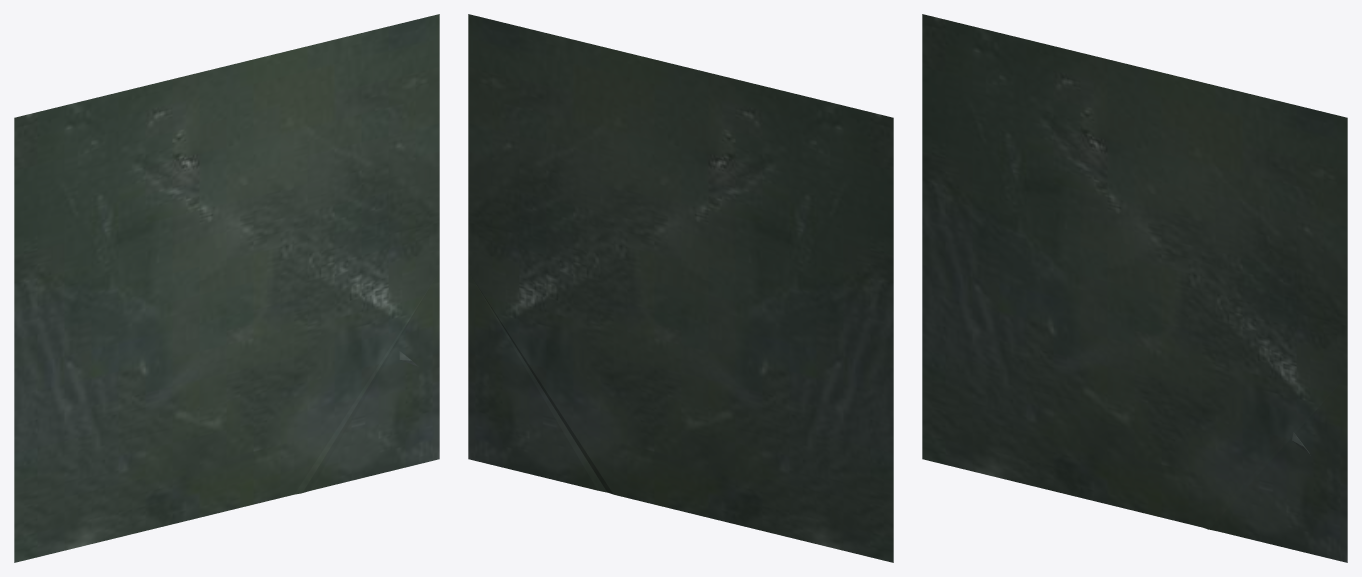
The model's file is Tile_+037_+018_L17_0003.glb.
3 renders of one model, left to right at view 1: azimuth 30°, elevation 25°; view 2: azimuth 150°, elevation 25°; view 3: azimuth 330°, elevation 25°, orthographic.
Bounding box in the file's own units: 126 × 126 × 4.06.
1 material, 1 textured.
